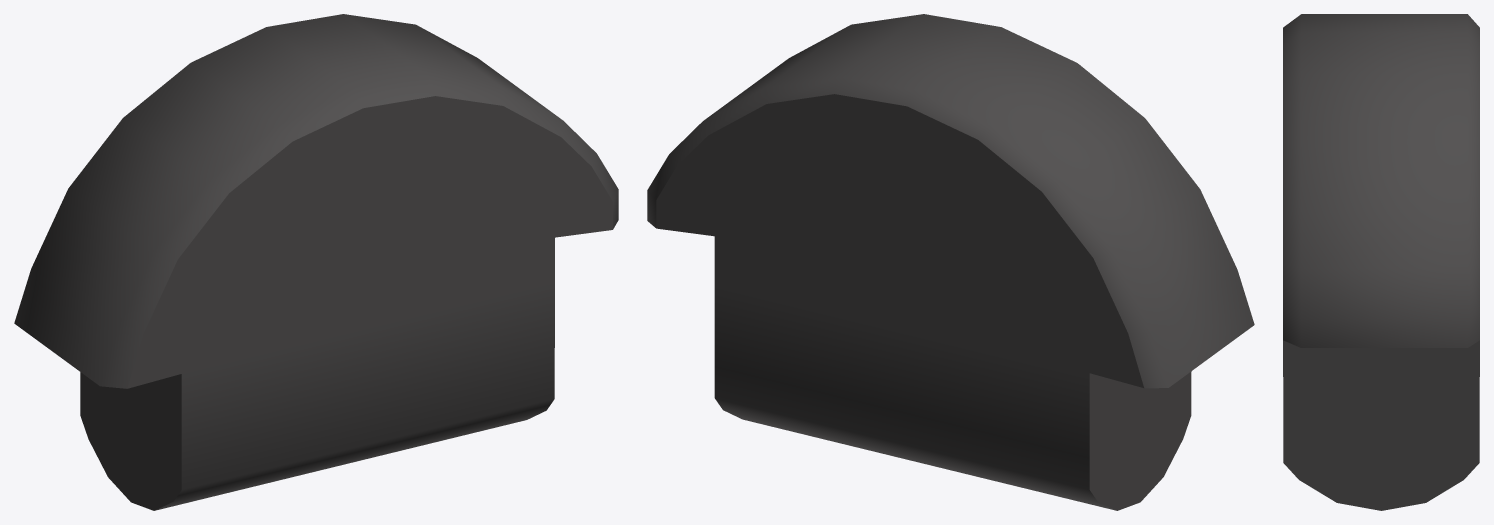
The model's file is RAnklePitch.dae.
3 renders of one model, left to right at view 1: azimuth 30°, elevation 25°; view 2: azimuth 150°, elevation 25°; view 3: azimuth 270°, elevation 25°, orthographic. The views are drawn at different scales.
Visible parts, largest first — view 1: RAnklePitch; view 2: RAnklePitch; view 3: RAnklePitch.
Part boxes in pixels (x1,y1,x2,y2): RAnklePitch: [14, 14, 618, 510]; RAnklePitch: [647, 14, 1254, 510]; RAnklePitch: [1283, 14, 1479, 510].
Bounding box in the file's own units: 0.8413 × 0.2852 × 0.6182.
1 material, 1 textured.
